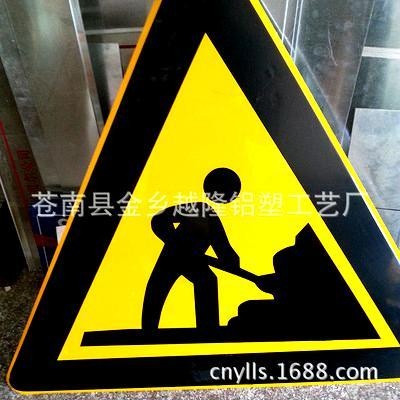sign: (21, 8, 392, 393)
